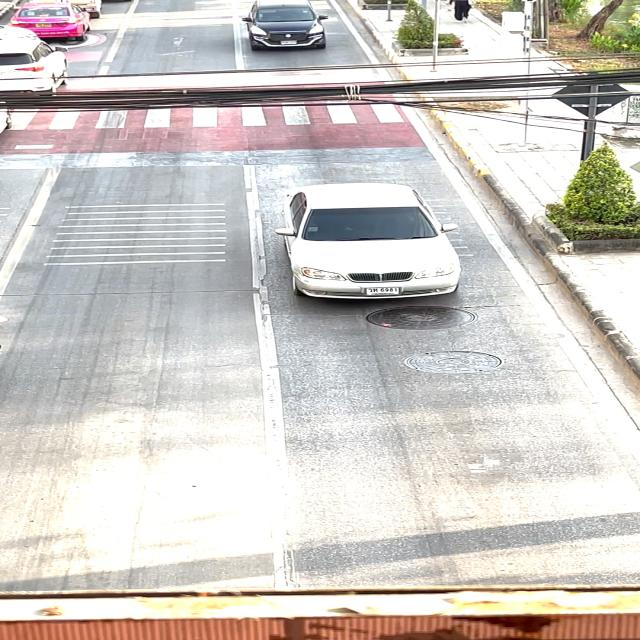car: (261, 178, 478, 318), (229, 0, 333, 65)
